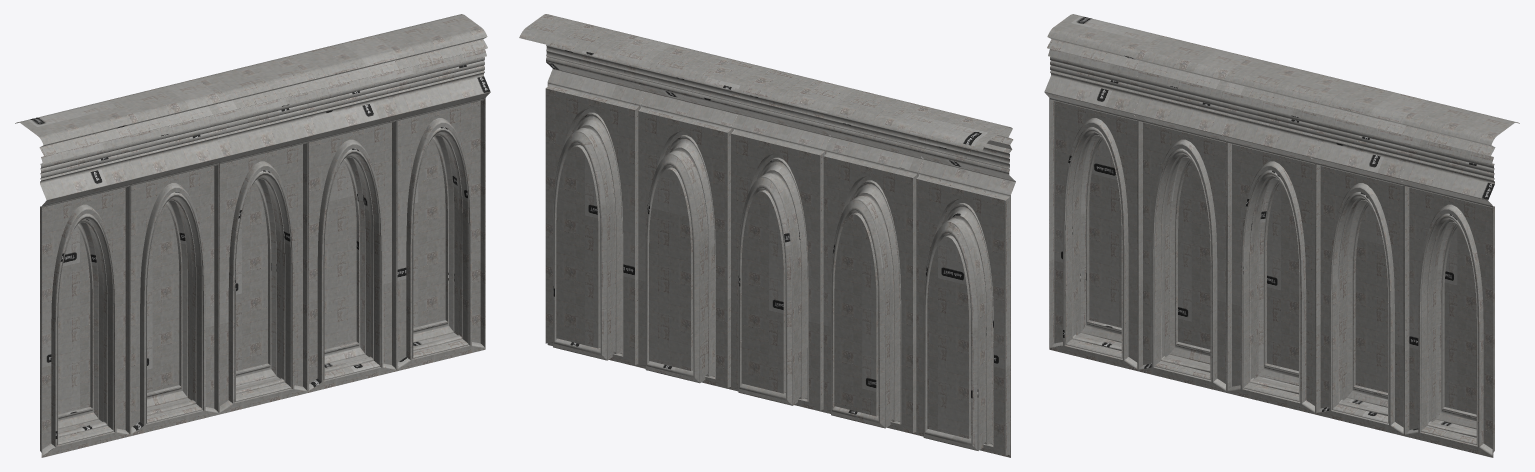
The model's file is GIK_DownWall1.fbx.
3 renders of one model, left to right at view 1: azimuth 30°, elevation 25°; view 2: azimuth 150°, elevation 25°; view 3: azimuth 330°, elevation 25°, orthographic. The views are drawn at different scales.
Visible parts, largest first — view 1: GIK_DownWall.001; view 2: GIK_DownWall.001; view 3: GIK_DownWall.001.
Boxes of the visible parts, bbox=[...] form: GIK_DownWall.001: bbox=[15, 14, 490, 457]; GIK_DownWall.001: bbox=[519, 14, 1015, 457]; GIK_DownWall.001: bbox=[1044, 14, 1519, 457].
Bounding box in the file's own units: 331 × 227 × 41.49.
